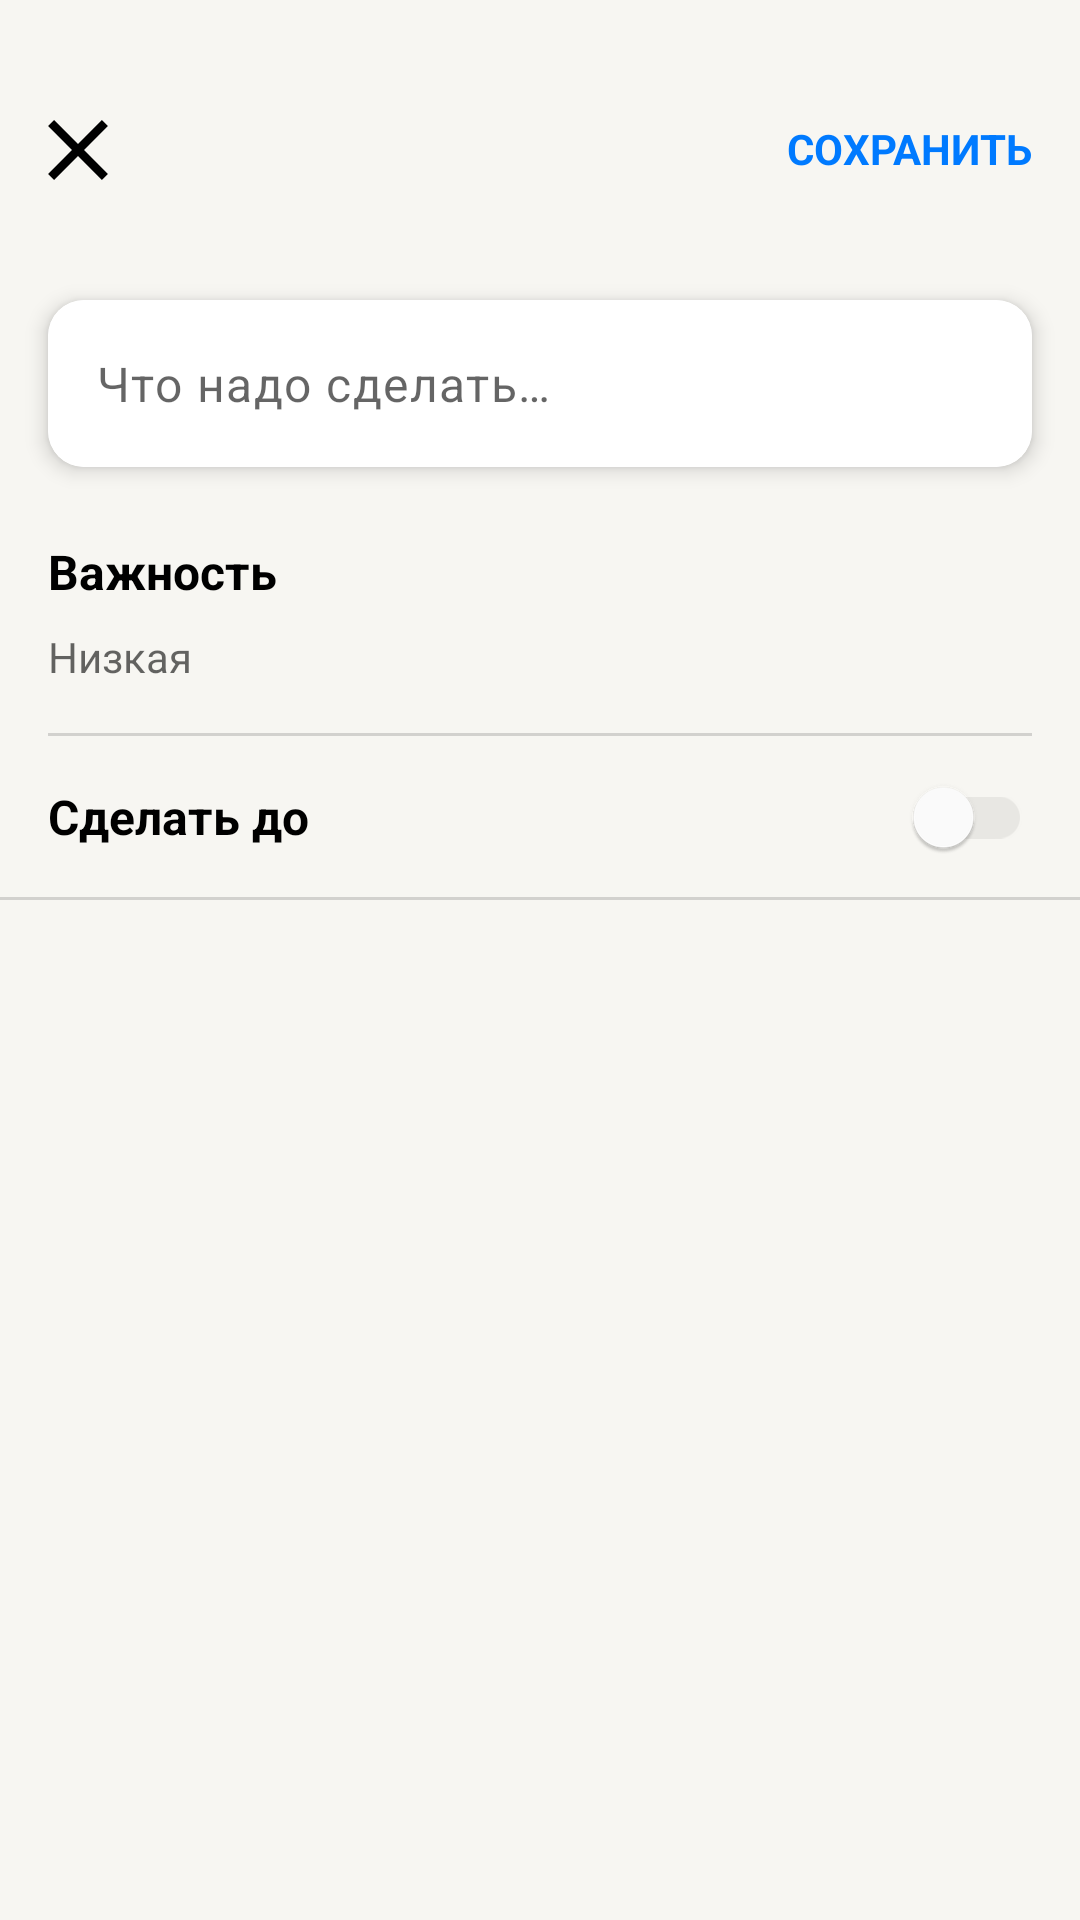

Screen size 1080px x 1920px. Icon name, then its center in pixels as point (x, y):
Кнопка закрыть: point (78, 150)
